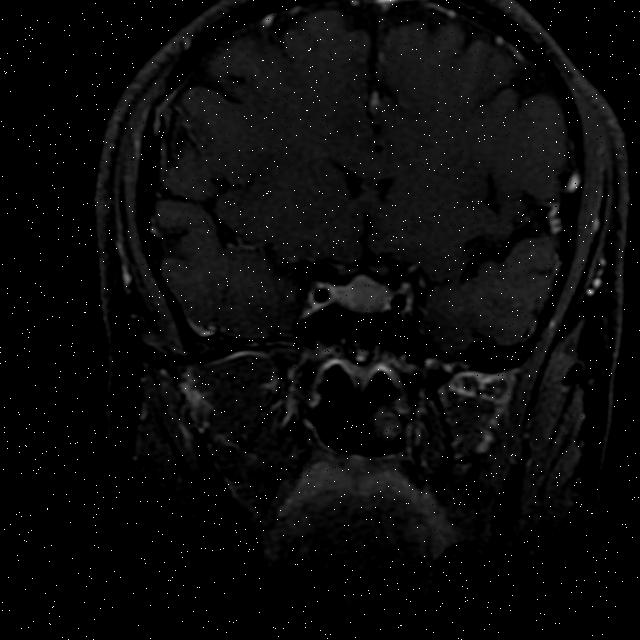Pituitary: (328, 267, 396, 321)
